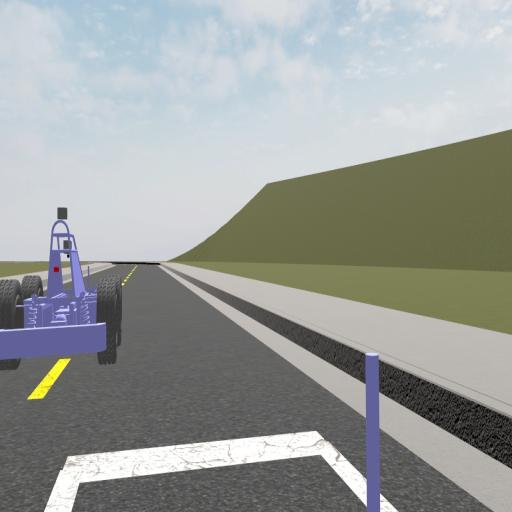ERP-42: (1, 204, 122, 374)
